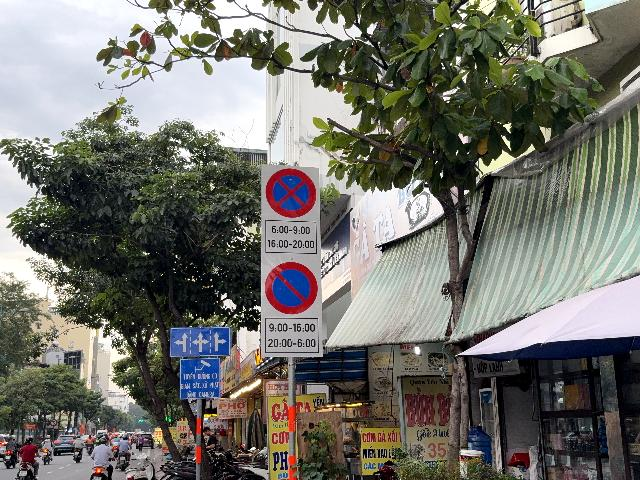cam-do-xe: (264, 262, 317, 314)
cam-dung-va-do-xe: (265, 167, 317, 218)
